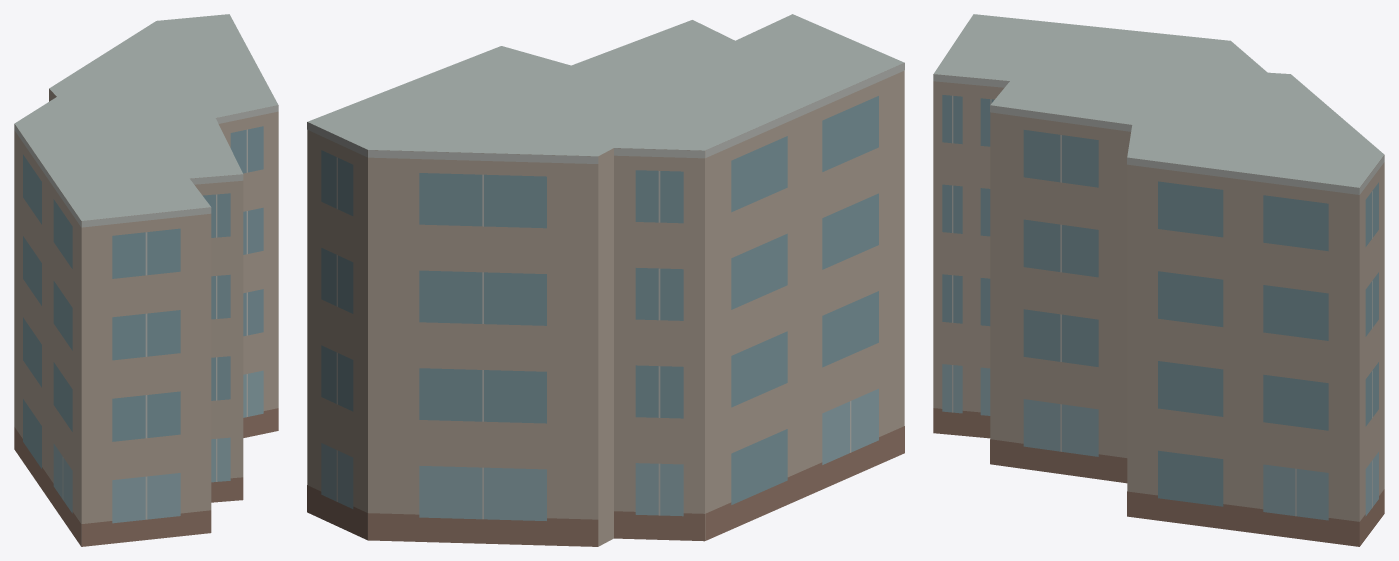
Rendered from residential-d1614dca-67c6-41d4-9b12-c1d78baa838e.glb.
The picture shows the model from 3 angles, left to right: view 1: azimuth 30°, elevation 25°; view 2: azimuth 150°, elevation 25°; view 3: azimuth 270°, elevation 25°; orthographic projection. The views are drawn at different scales.
Visible parts, largest first — view 1: residential-d1614dca-67c6-41d4-9b12-c1d78baa838e.tmp; view 2: residential-d1614dca-67c6-41d4-9b12-c1d78baa838e.tmp; view 3: residential-d1614dca-67c6-41d4-9b12-c1d78baa838e.tmp.
Part boxes in pixels (left/top/right/bottom): residential-d1614dca-67c6-41d4-9b12-c1d78baa838e.tmp: left=14, top=14, right=278, bottom=546; residential-d1614dca-67c6-41d4-9b12-c1d78baa838e.tmp: left=307, top=14, right=904, bottom=546; residential-d1614dca-67c6-41d4-9b12-c1d78baa838e.tmp: left=933, top=14, right=1384, bottom=546.
Bounding box in the file's own units: 12.68 × 12.2 × 13.9.
